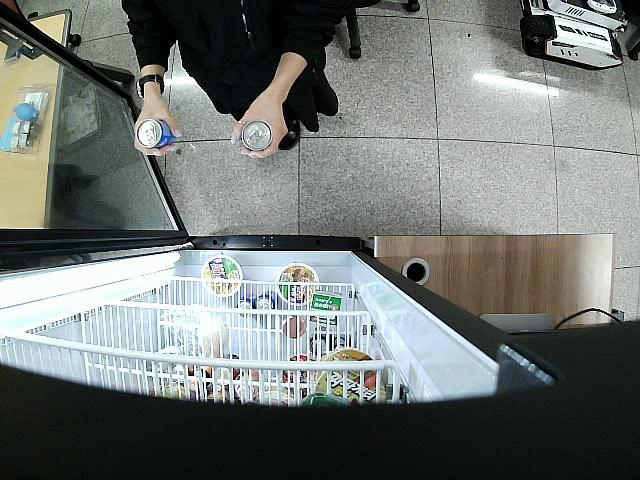00_hand: (229, 100, 287, 161), (133, 105, 183, 156)
15_letsbe: (136, 119, 178, 149), (241, 120, 273, 151)
